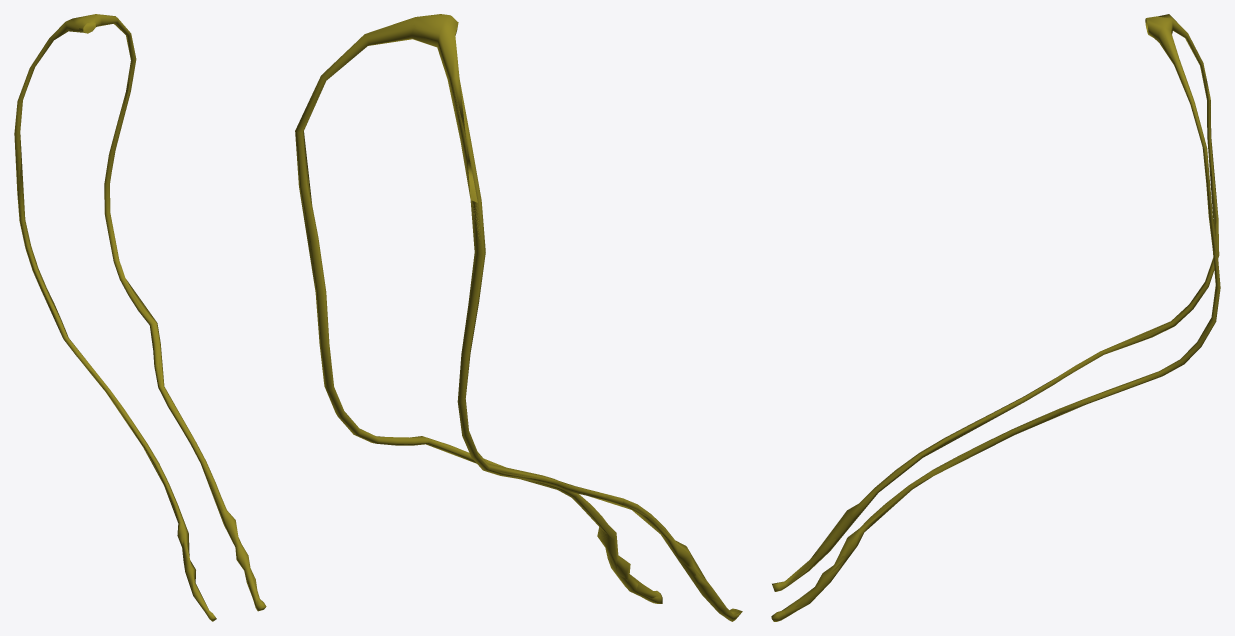
The model's file is lymphocentrum ischeadicum.fbx.
3 views of the same model, side by side, from view 1: azimuth 30°, elevation 25°; view 2: azimuth 150°, elevation 25°; view 3: azimuth 270°, elevation 25° (orthographic). The views are drawn at different scales.
Parts seen in each view (by area): view 1: lymphocentrum ischeadicum, lymphocentrum ischeadicum low; view 2: lymphocentrum ischeadicum, lymphocentrum ischeadicum low; view 3: lymphocentrum ischeadicum, lymphocentrum ischeadicum low.
Part boxes in pixels (left/top/right/bottom): lymphocentrum ischeadicum: left=14, top=14, right=266, bottom=621; lymphocentrum ischeadicum low: left=19, top=15, right=259, bottom=618; lymphocentrum ischeadicum: left=295, top=14, right=742, bottom=621; lymphocentrum ischeadicum low: left=299, top=17, right=742, bottom=621; lymphocentrum ischeadicum: left=771, top=14, right=1220, bottom=621; lymphocentrum ischeadicum low: left=774, top=18, right=1219, bottom=615.
Bounding box in the file's own units: 5.93 × 22.9 × 15.75.
